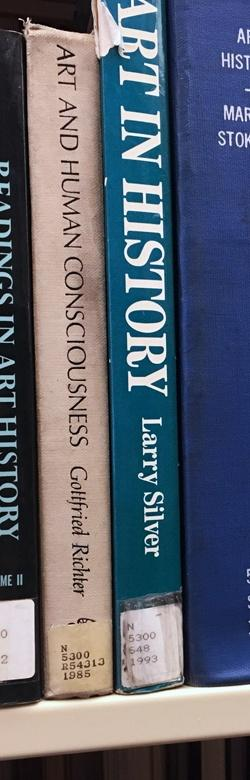call_number: (116, 608, 183, 682), (50, 620, 109, 691)
